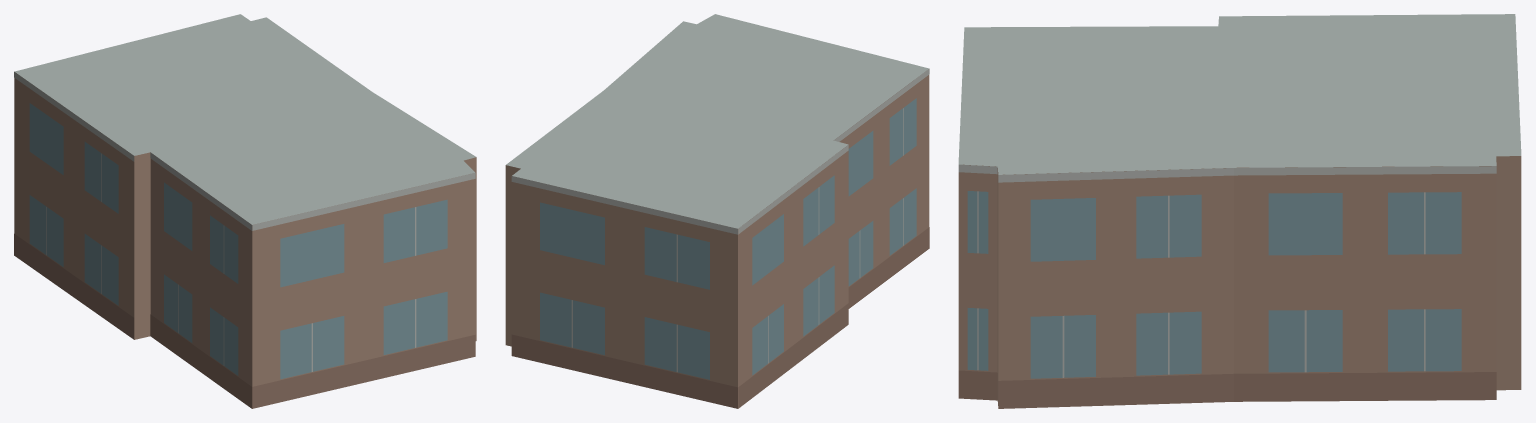
File: survey-upis-32969707.glb
3 views of the same model, side by side, from view 1: azimuth 30°, elevation 25°; view 2: azimuth 150°, elevation 25°; view 3: azimuth 270°, elevation 25° (orthographic). The views are drawn at different scales.
Visible parts, largest first — view 1: survey-upis-32969707.tmp; view 2: survey-upis-32969707.tmp; view 3: survey-upis-32969707.tmp.
Part boxes in pixels (x1,y1,x2,y2): survey-upis-32969707.tmp: (14, 14, 476, 408); survey-upis-32969707.tmp: (505, 14, 929, 408); survey-upis-32969707.tmp: (958, 14, 1521, 408).
Size of the model in its own units: 10.92 by 7.4 by 16.15.
